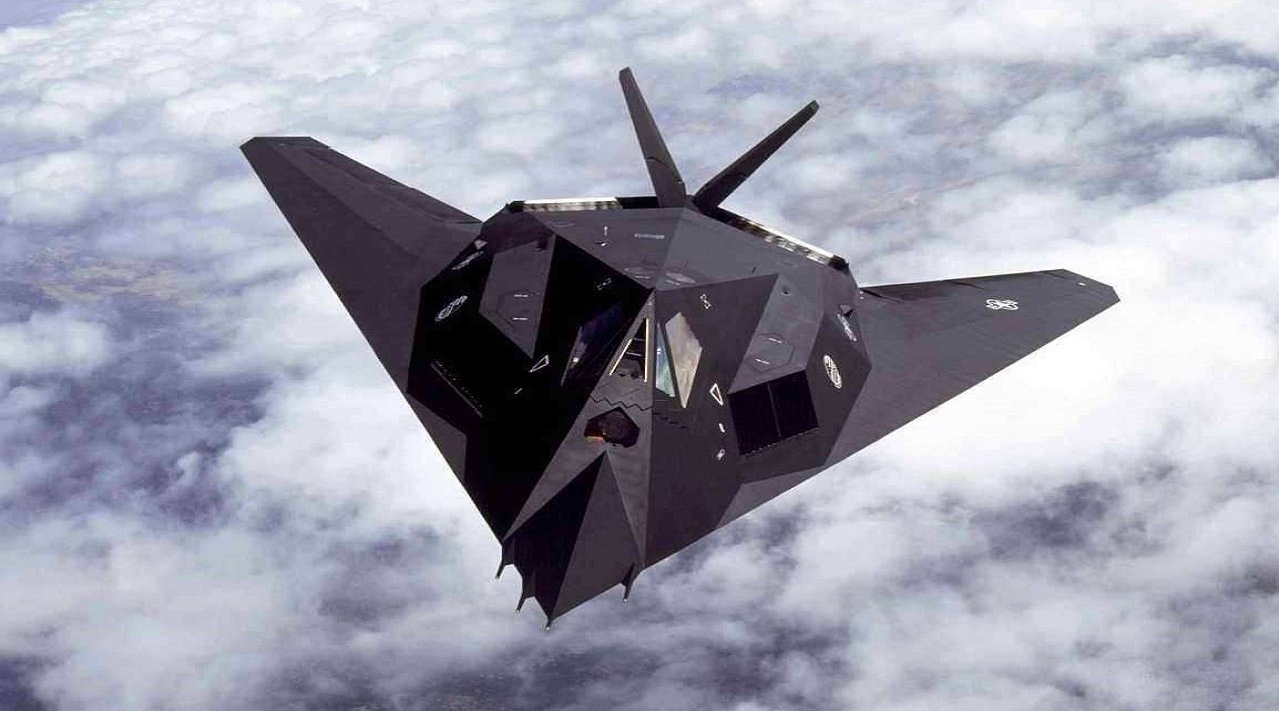airplane: (230, 66, 1127, 633)
